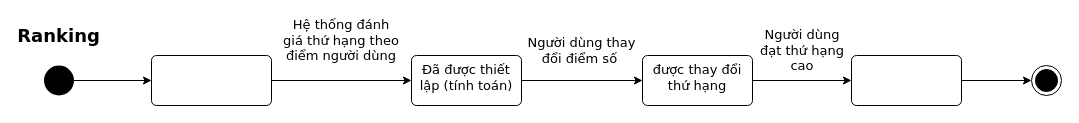
The diagram is 1079 pixels wide and 123 high, and some of its shapes have lost their labels. Each missing label, with the centre of its shape:
"Chưa được thiết lập (tính toán)" goes at (211,80).
"Được thiết lập hạng đặc biệt" goes at (906,80).
